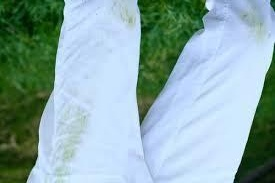earth: (56, 107, 86, 159), (244, 9, 264, 38), (118, 2, 137, 27), (53, 164, 68, 182)
